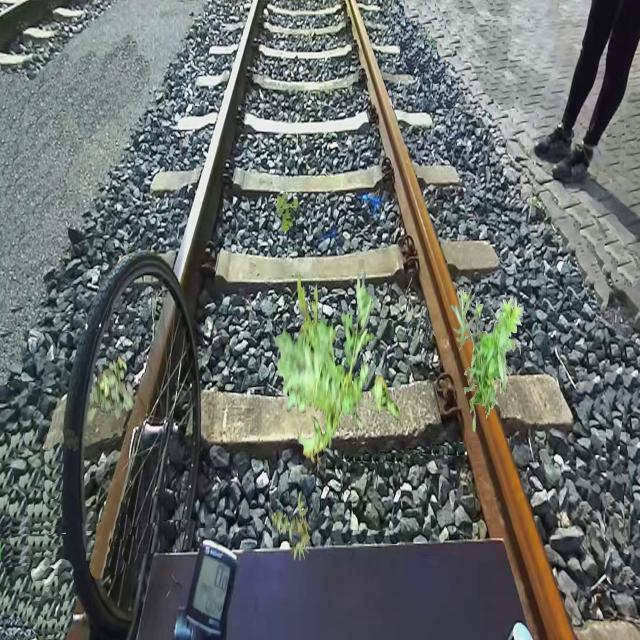Plant: (275, 271, 400, 467), (459, 289, 524, 432), (270, 490, 312, 562), (91, 355, 134, 422), (450, 287, 477, 344), (275, 192, 299, 233)
